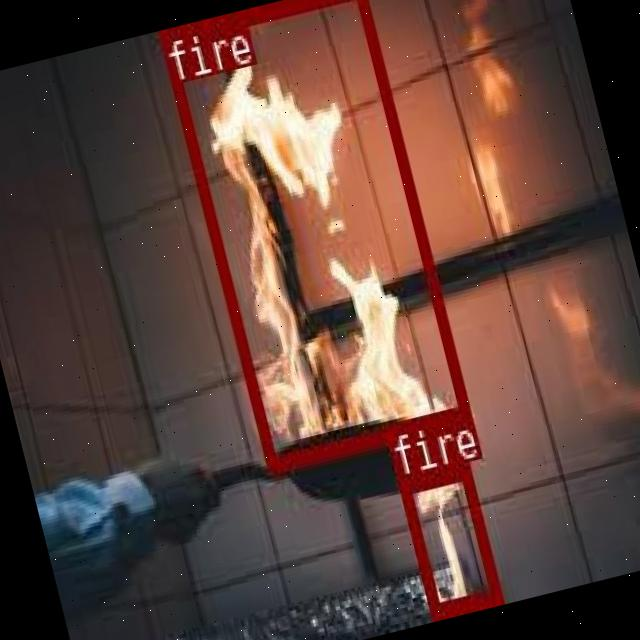fire: (157, 0, 470, 472), (396, 462, 498, 615)
